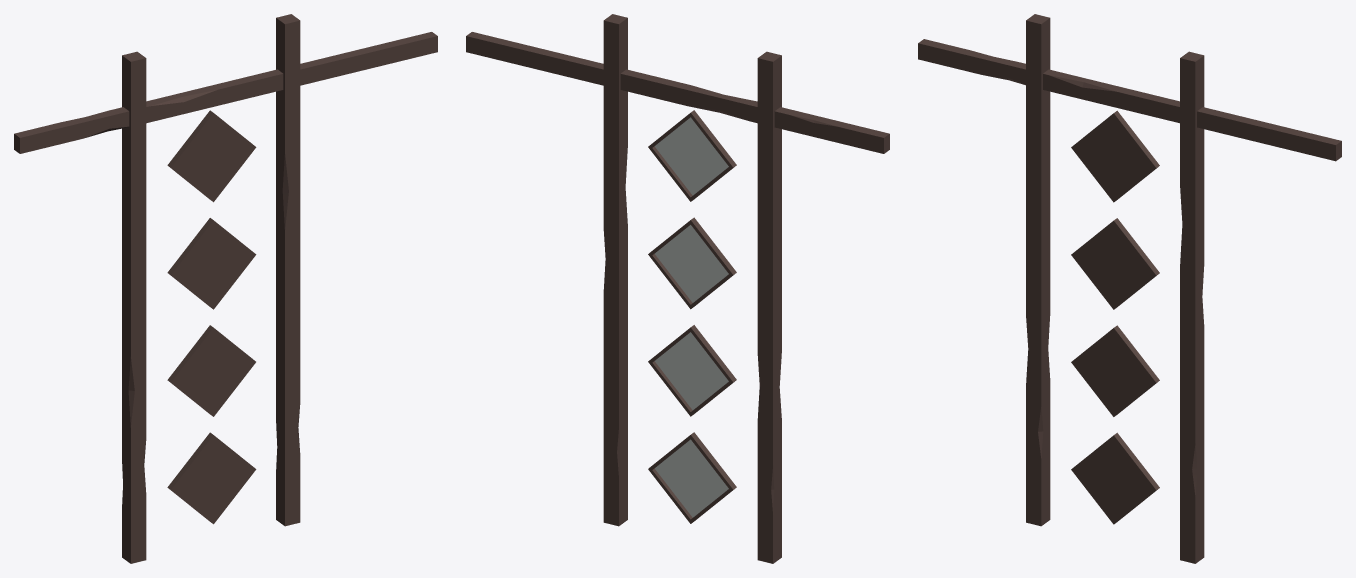
File: SM_Env_Wood_07.fbx
The picture shows the model from 3 angles, left to right: view 1: azimuth 30°, elevation 25°; view 2: azimuth 150°, elevation 25°; view 3: azimuth 330°, elevation 25°; orthographic projection.
Parts seen in each view (by area): view 1: SM_Env_Wood_07; view 2: SM_Env_Wood_07; view 3: SM_Env_Wood_07.
Part boxes in pixels (left/top/right/bottom): SM_Env_Wood_07: left=14, top=14, right=437, bottom=563; SM_Env_Wood_07: left=466, top=14, right=889, bottom=563; SM_Env_Wood_07: left=918, top=14, right=1341, bottom=563.
Bounding box in the file's own units: 297 × 341 × 10.97.
Materials: 1 (1 with a texture image).
